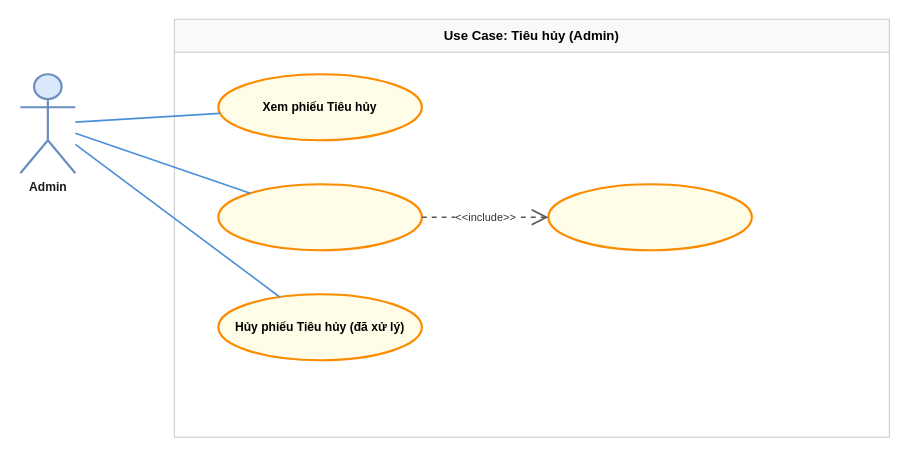
Image size: 909x457. Some labels were removed from this diagram. The shapes that lost their labels are listed below. From the top down, each one's centre as x and y in pixels, then its label:
At point (319, 217): "Phê duyệt Tiêu hủy cuối cùng".
At point (649, 217): "Trừ tồn kho vĩnh viễn".
